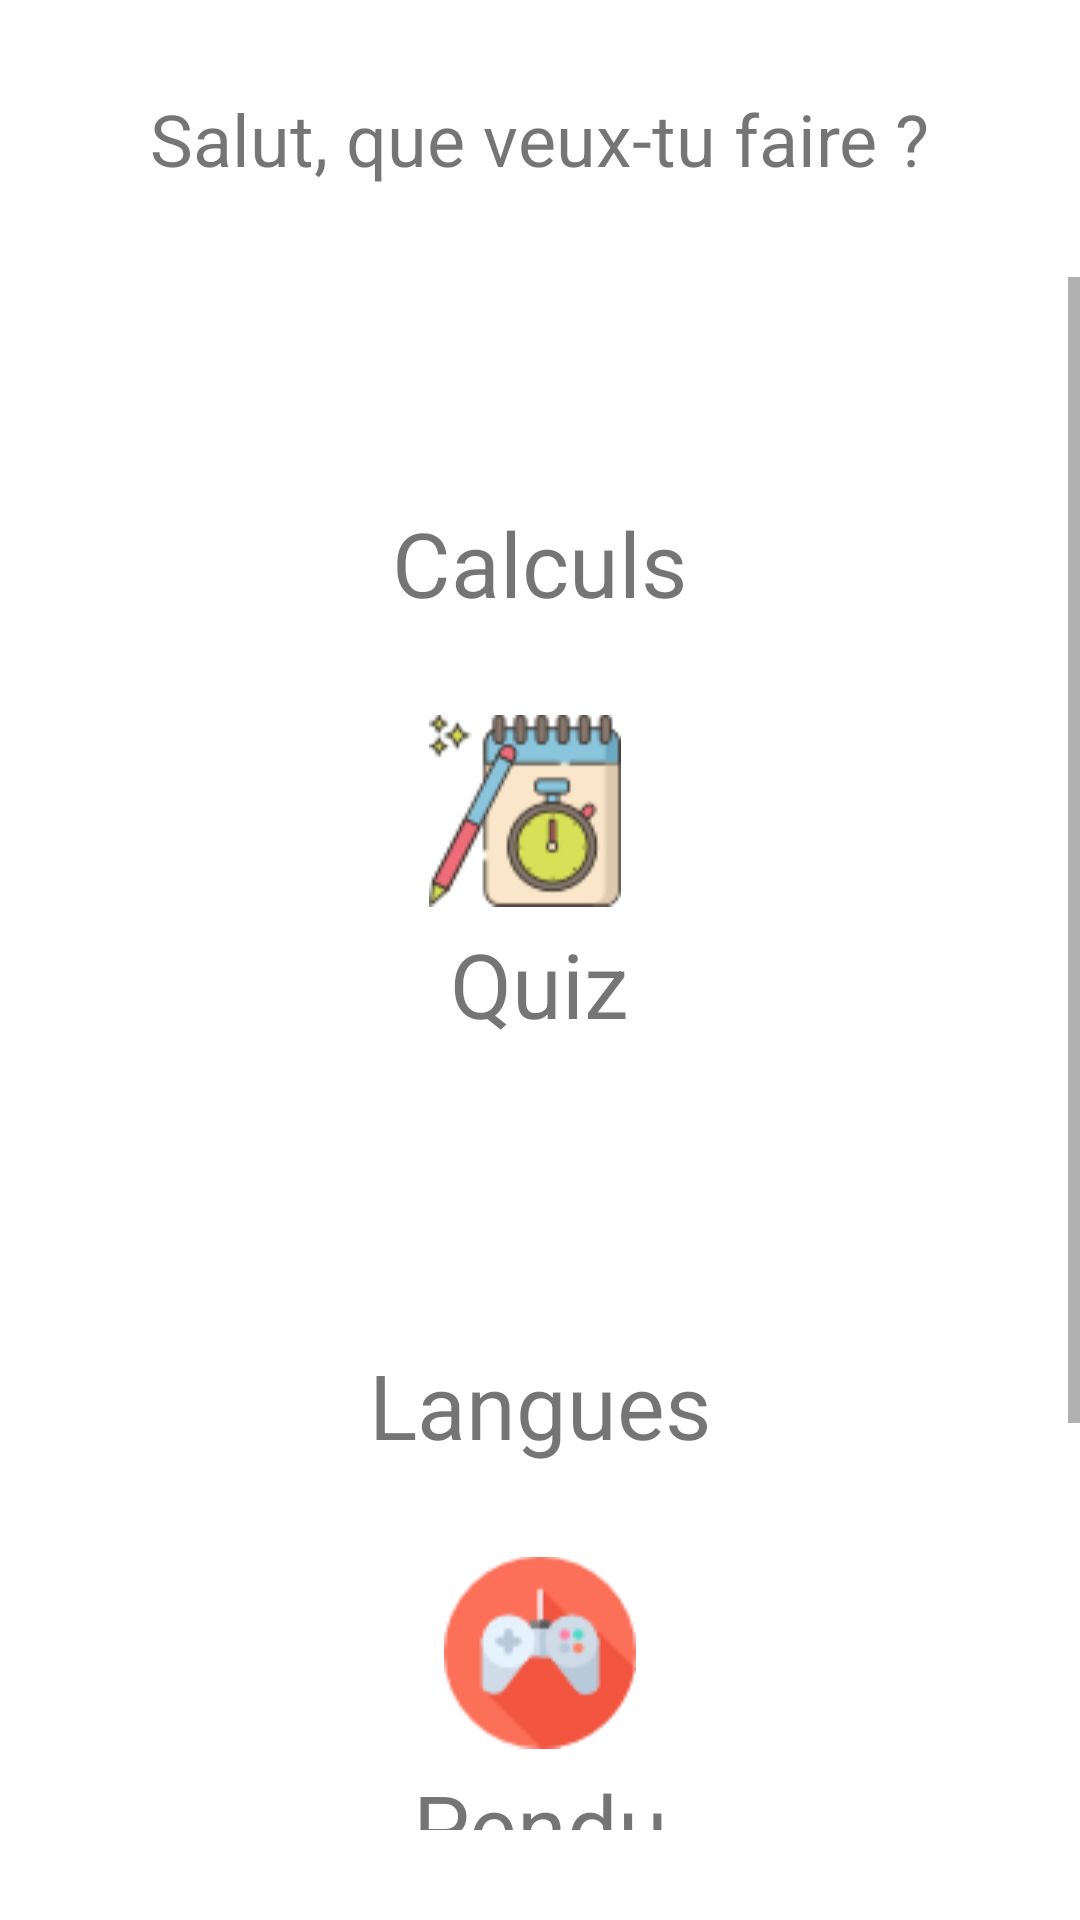

Icons on this 1080×1920 Android screen, each with its box as (x1, y1, x2, y2):
controller: (444, 1557, 636, 1749)
